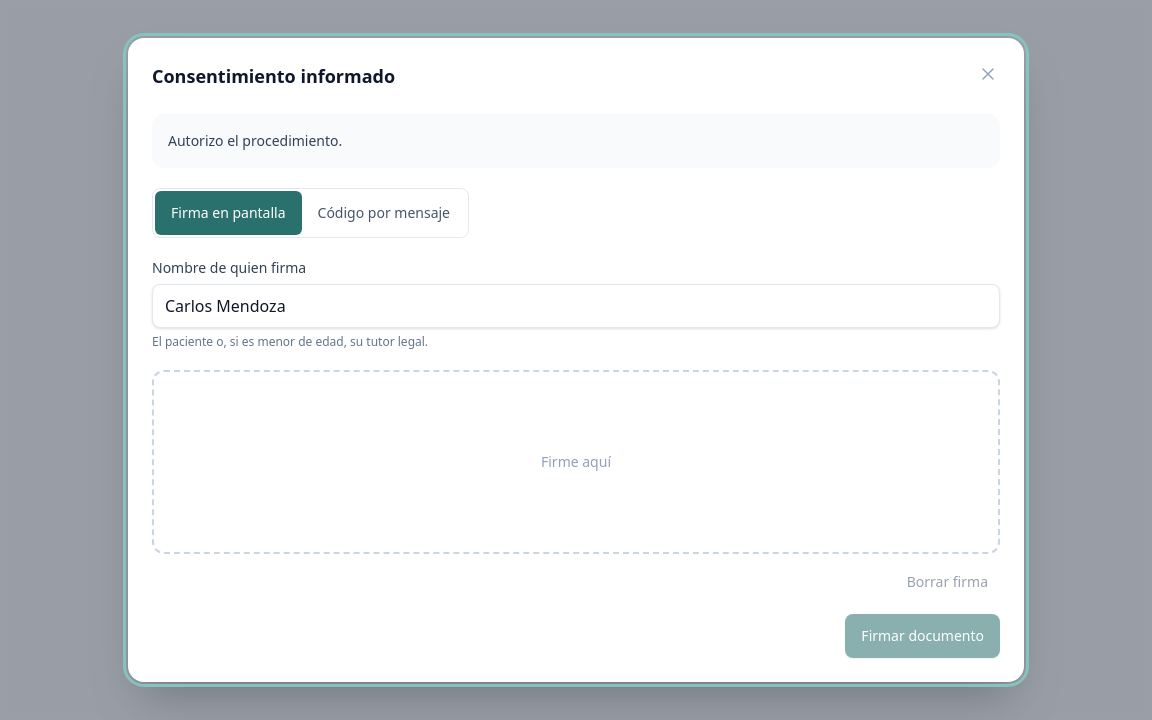
Test case: <SigningDialog>: firma táctil (RF-06) › «Borrar firma» limpia el lienzo y vuelve a bloquear
Press the mouse on the picture named "Área de firma" at {"x": 576, "y": 462}, box [154, 372, 998, 552]
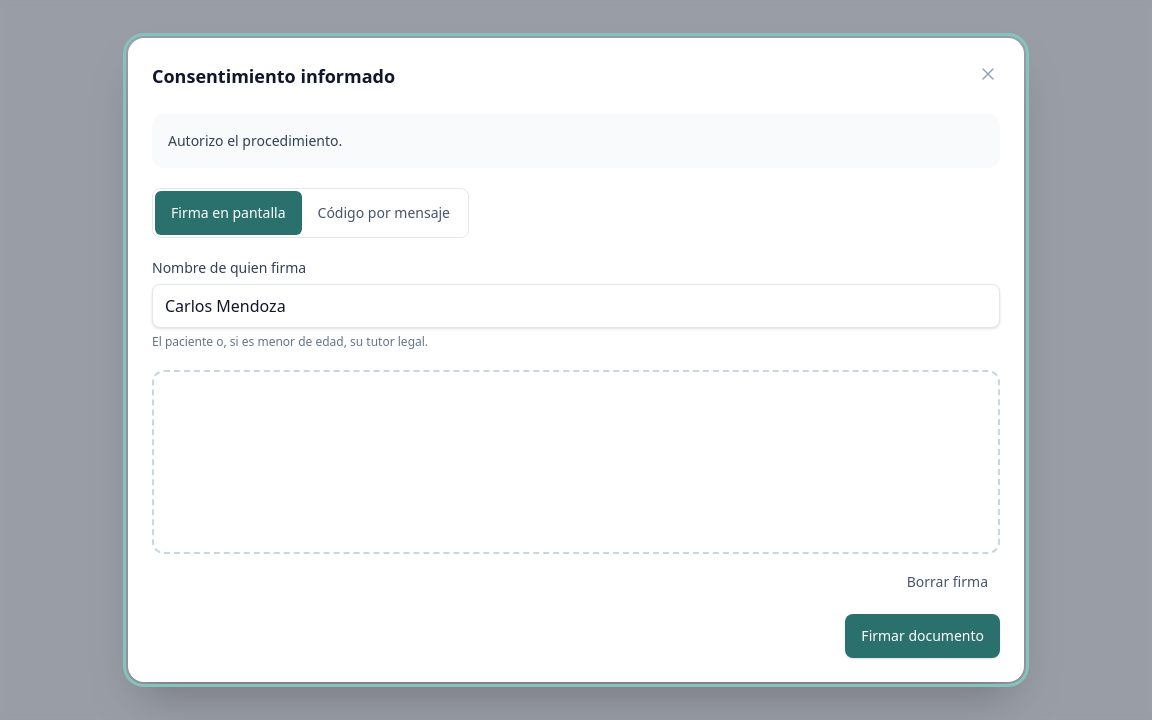
Click the button "Borrar firma".
click(947, 582)  # box [895, 562, 1000, 602]
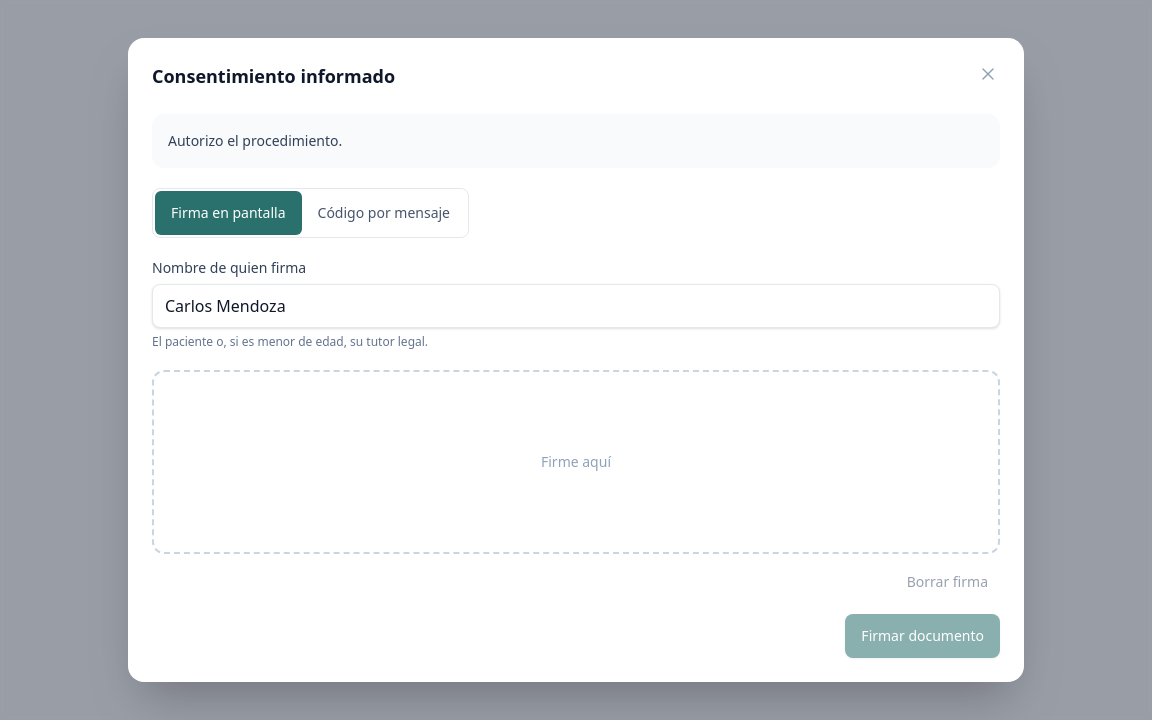
Now the button "Firmar documento" is disabled, box [845, 614, 1000, 658]
